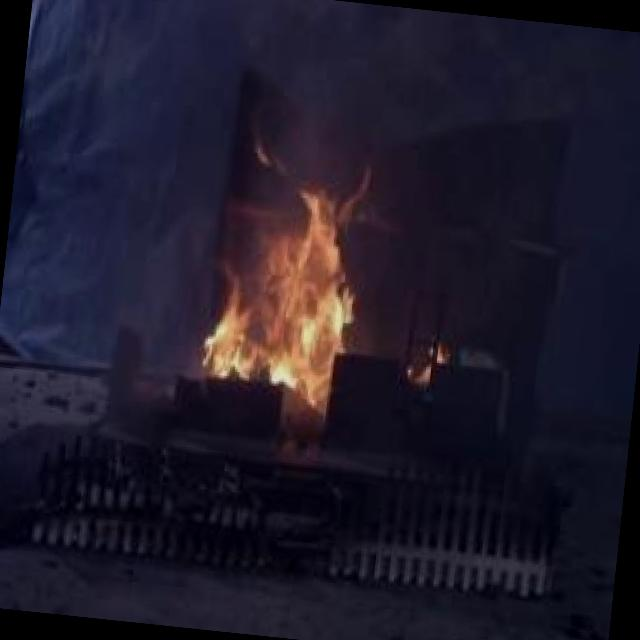fire: (208, 170, 366, 405)
